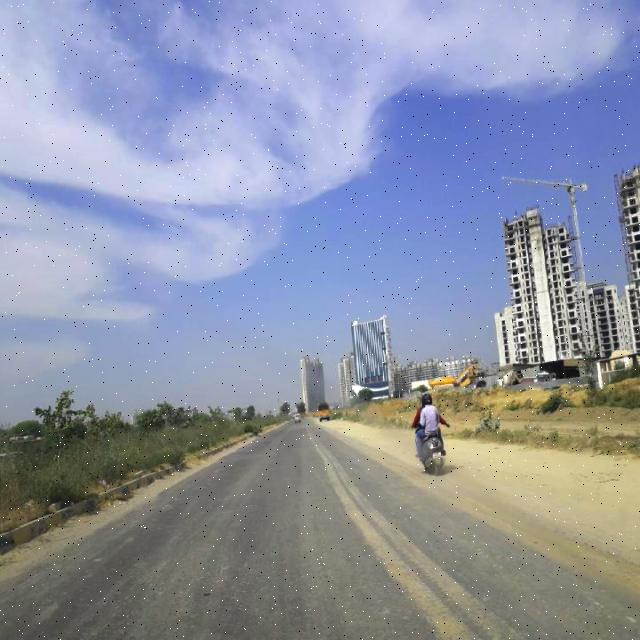D44: (331, 490, 518, 630)
